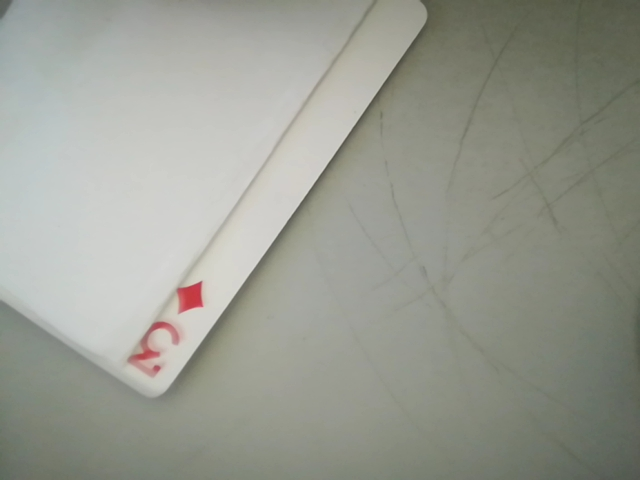fk 3: (115, 274, 218, 393)
